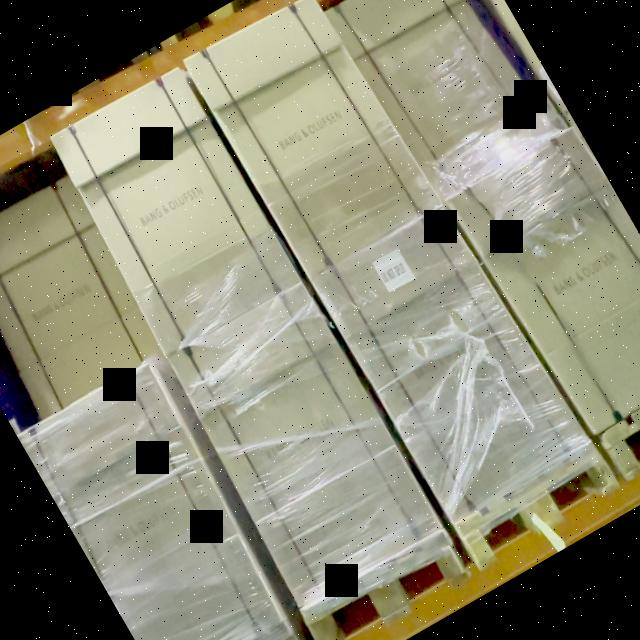box: (315, 208, 583, 524), (171, 285, 440, 599), (51, 66, 299, 348), (187, 0, 438, 278)
